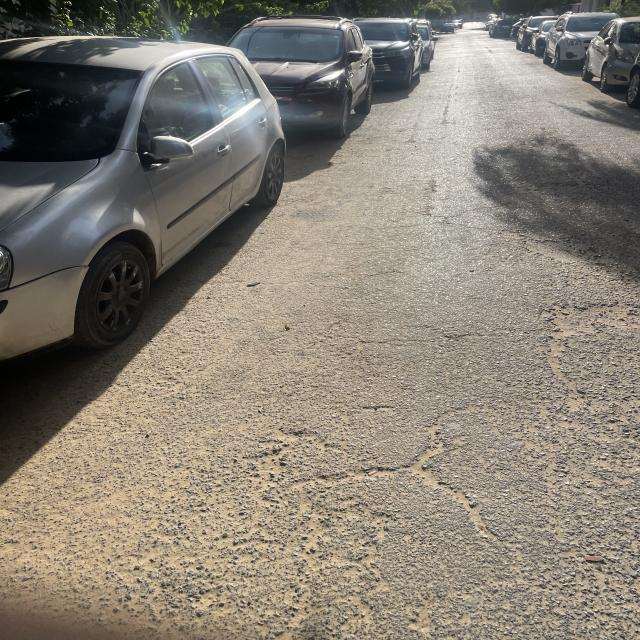particulier: (1, 37, 288, 361), (229, 16, 376, 139), (354, 19, 424, 89), (583, 17, 640, 92), (544, 14, 619, 70), (518, 16, 559, 52), (416, 21, 439, 71), (531, 21, 558, 57), (489, 20, 516, 39), (441, 24, 456, 35), (454, 20, 464, 30)
